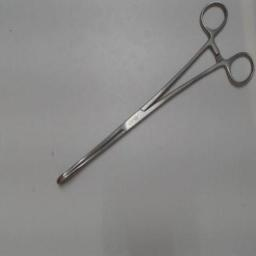Sponge Forceps: (51, 1, 255, 191)
